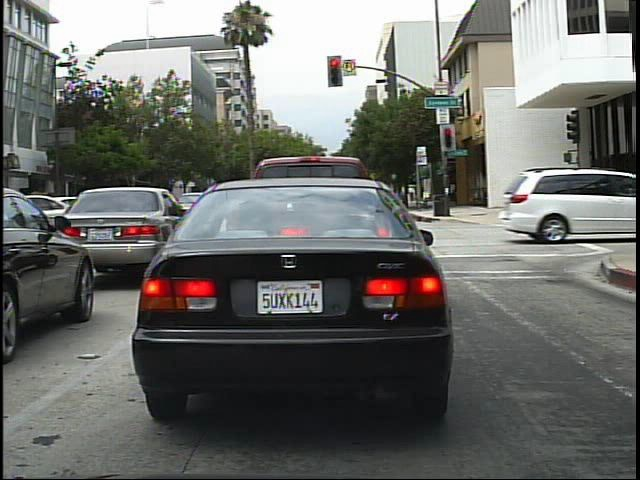person: (557, 171, 582, 222), (536, 171, 558, 221)
